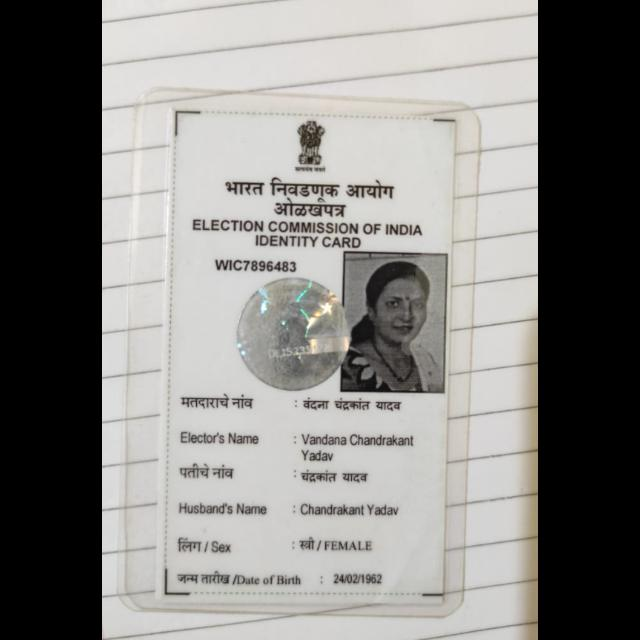voter_id: (152, 100, 462, 612)
